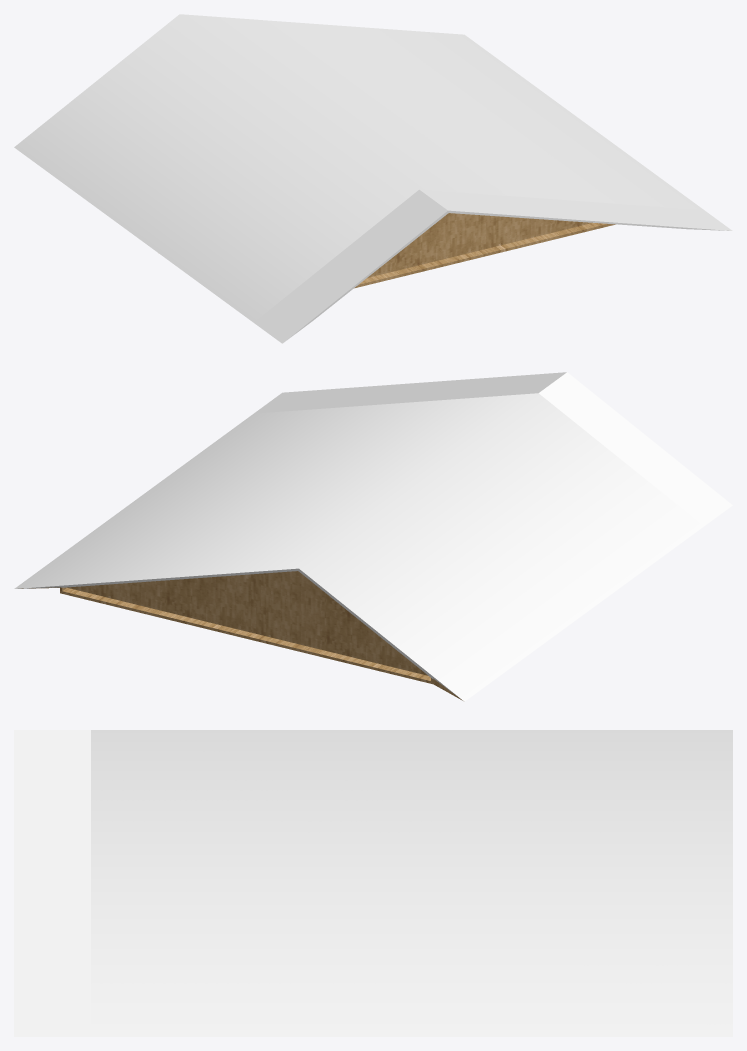
The model's file is techo.glb.
The picture shows the model from 3 angles, top to bottom: view 1: azimuth 30°, elevation 25°; view 2: azimuth 150°, elevation 25°; view 3: azimuth 270°, elevation 25°; orthographic projection. The views are drawn at different scales.
Parts seen in each view (by area): view 1: Object002, Box017, Object003; view 2: Object002, Box017, Object003; view 3: Object002.
Boxes of the visible parts, bbox=[...] form: Object002: bbox=[14, 14, 732, 343]; Box017: bbox=[354, 213, 615, 288]; Object003: bbox=[287, 210, 728, 339]; Object002: bbox=[14, 372, 732, 701]; Box017: bbox=[21, 571, 462, 700]; Object003: bbox=[18, 568, 462, 700]; Object002: bbox=[14, 730, 732, 1036].
Size of the model in its own units: 5.43 by 1.07 by 5.6.
2 materials, 1 textured.
